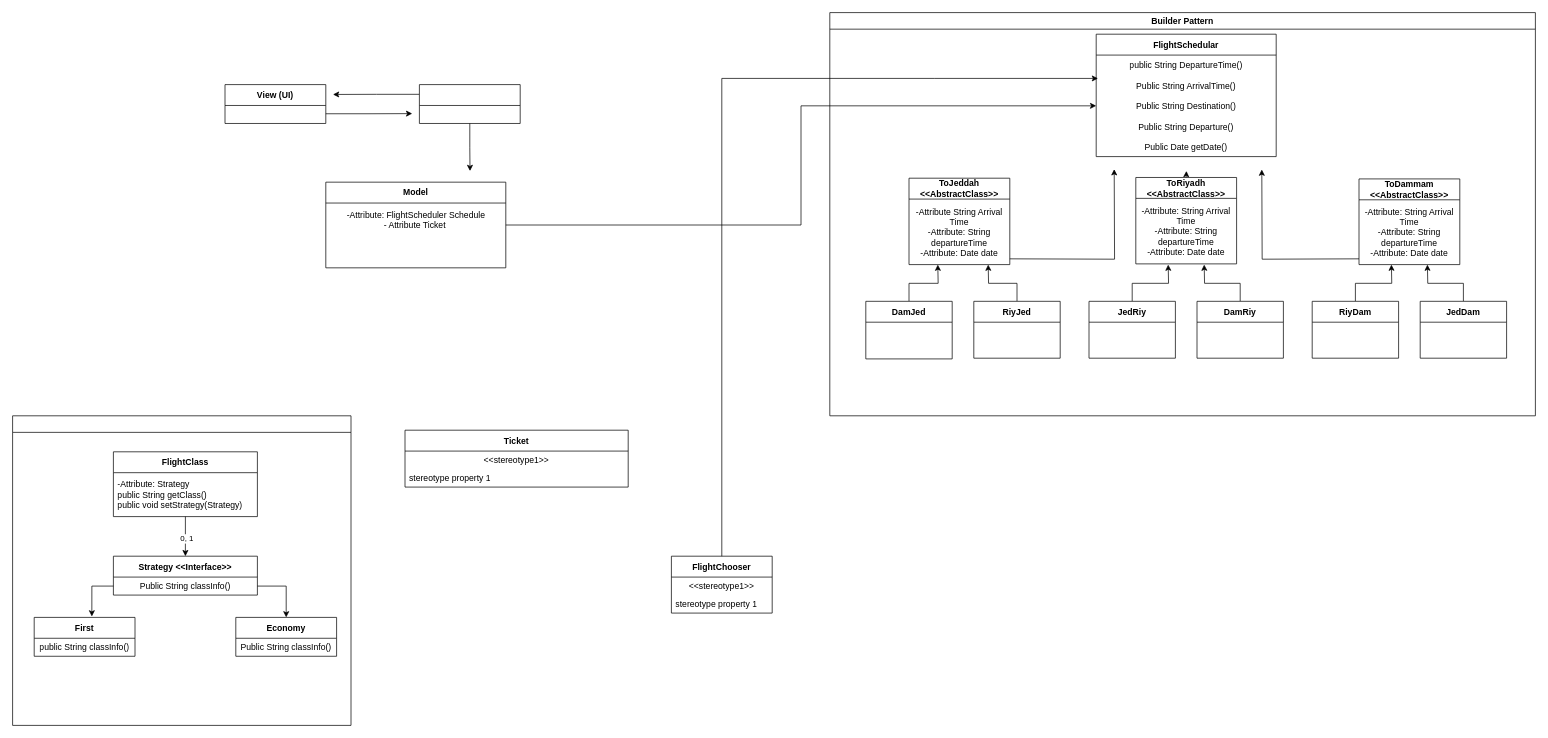
Image size: 1548x738. Some labels were removed from this diagram. The shapes that lost their labels are listed below. From the top down, each one's centre as x and y in pixels, then its label:
(469,103): Controller
(181,570): Flight Class Choosing (Strategy)
